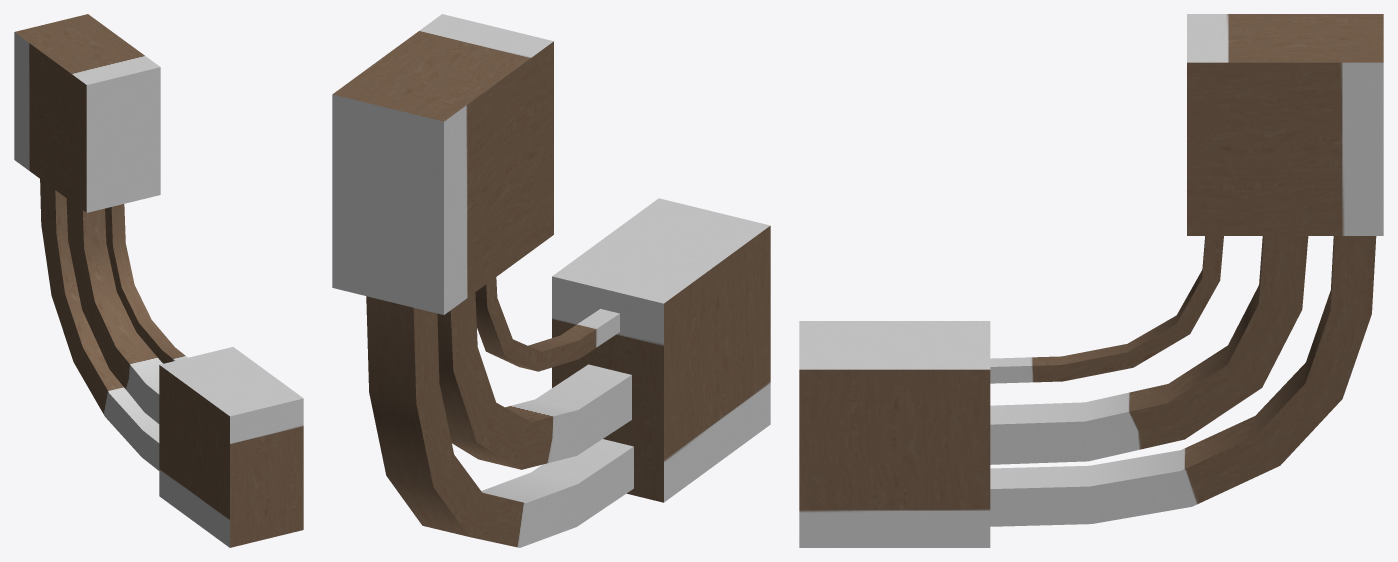
Rendered from Decor_Railing1.fbx.
3 views of the same model, side by side, from view 1: azimuth 30°, elevation 25°; view 2: azimuth 150°, elevation 25°; view 3: azimuth 270°, elevation 25° (orthographic). The views are drawn at different scales.
Parts seen in each view (by area): view 1: Decor_Railing; view 2: Decor_Railing; view 3: Decor_Railing.
Boxes of the visible parts, x1,y1,x2,y2 form: Decor_Railing: [14, 14, 303, 547]; Decor_Railing: [332, 14, 770, 547]; Decor_Railing: [799, 14, 1383, 547].
Size of the model in its own units: 23.5 by 109 by 119.
